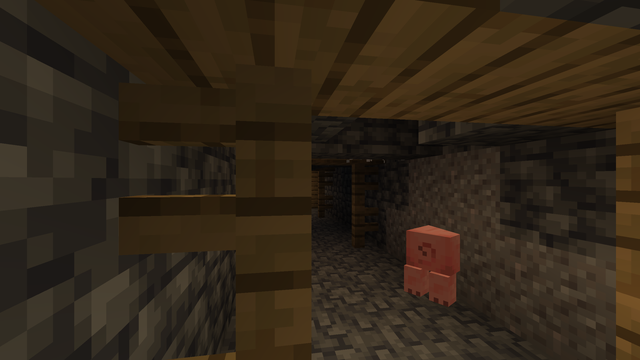cochons: (400, 222, 466, 303)
